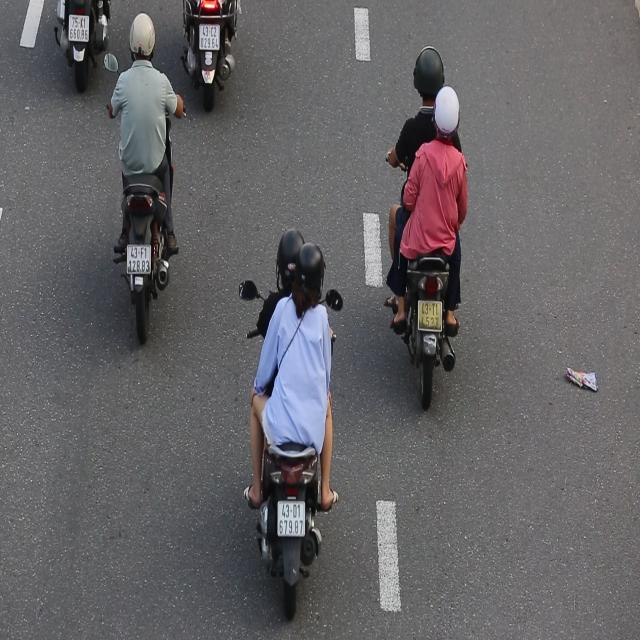motorbike: (235, 225, 343, 621), (384, 38, 472, 416), (109, 7, 189, 372)
